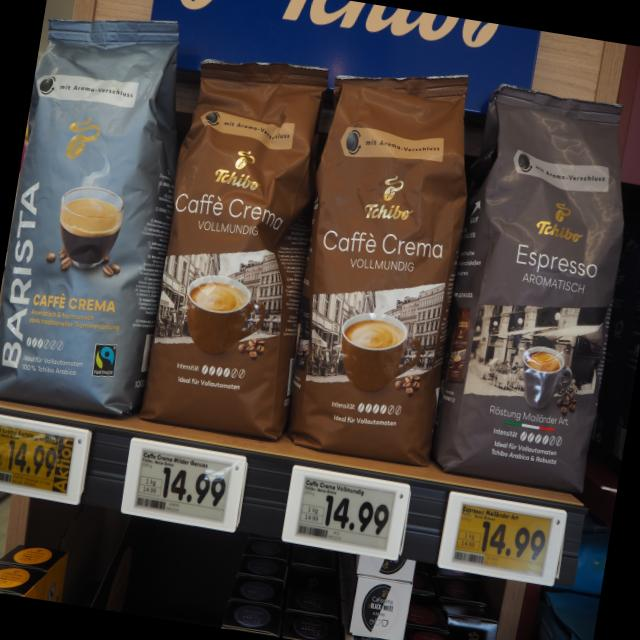Barista CC: (0, 0, 201, 423)
CC Vollmundig 36 Pads: (268, 50, 494, 472), (133, 44, 343, 448)
Espresso Aromatisch: (423, 75, 640, 499)
